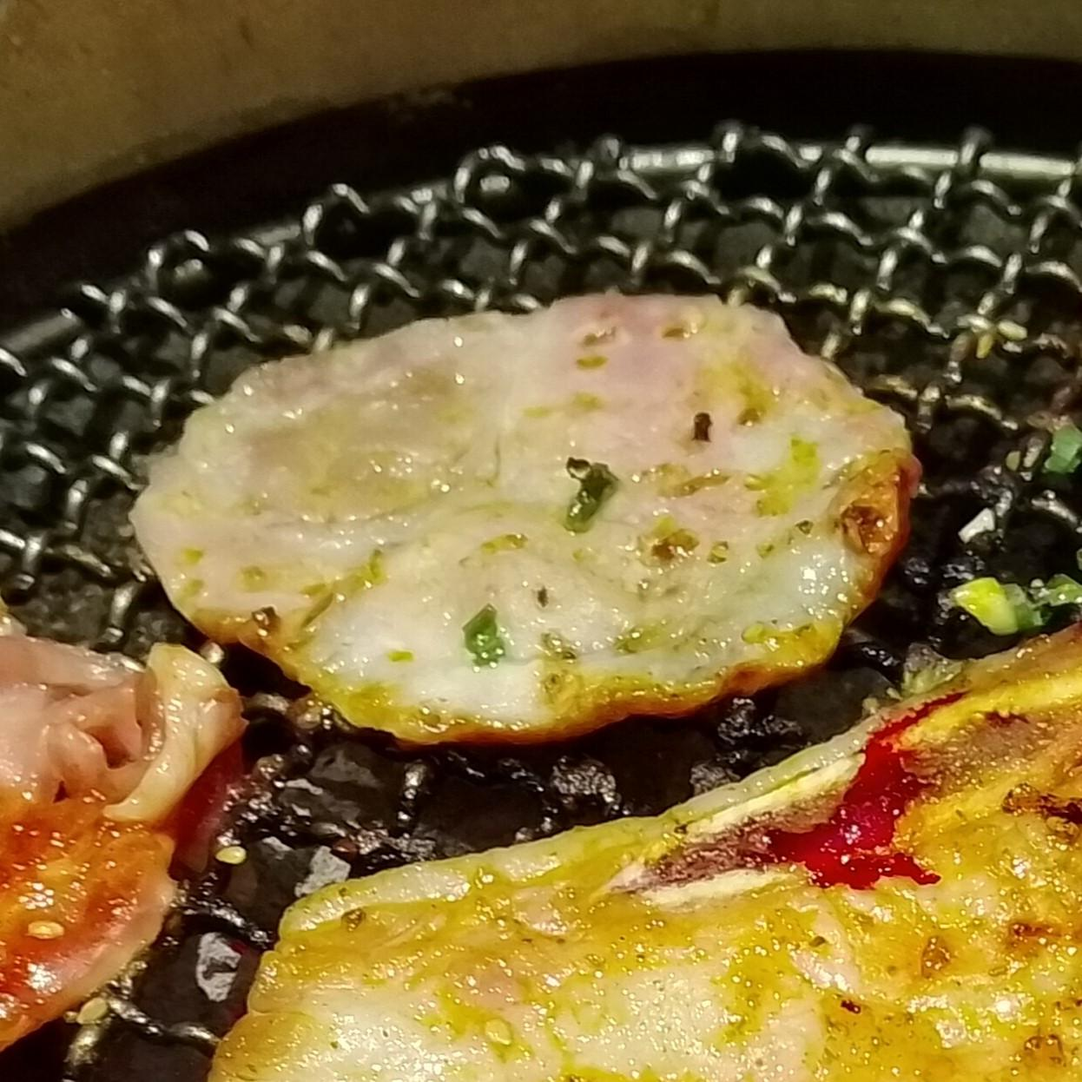Well-Cooked: (201, 617, 1081, 1081), (134, 293, 922, 751), (0, 637, 253, 1038)
